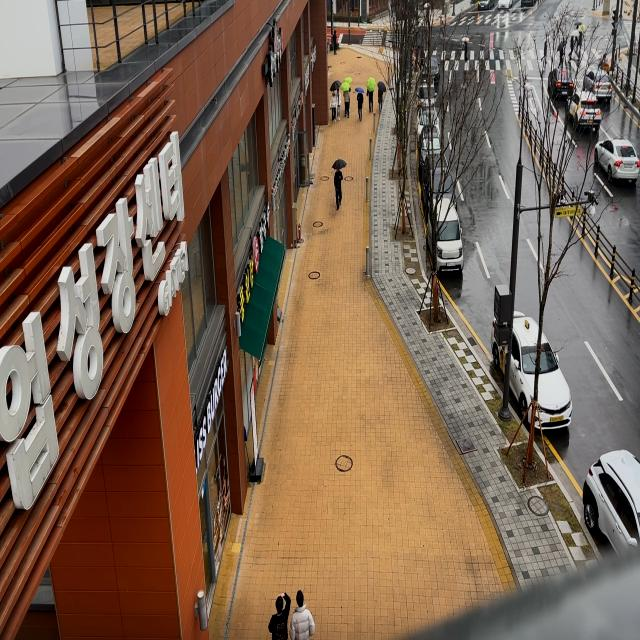Car: (484, 299, 580, 439), (569, 425, 640, 563), (421, 202, 468, 278), (418, 148, 461, 209), (594, 135, 640, 192), (567, 87, 607, 134), (582, 58, 612, 102), (546, 62, 578, 103), (414, 122, 444, 163), (411, 106, 443, 135), (417, 76, 440, 110), (422, 54, 446, 84)
Motorcycle: (598, 48, 612, 75)
